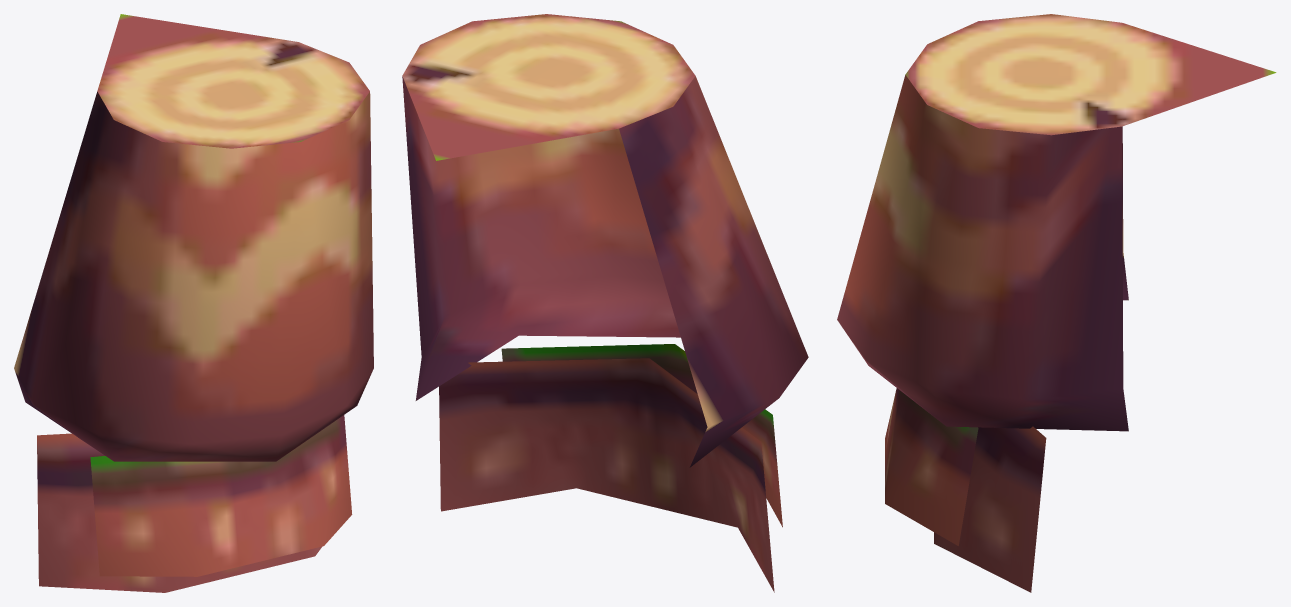
File: fg_treeC_4_b.dae
3 views of the same model, side by side, from view 1: azimuth 30°, elevation 25°; view 2: azimuth 150°, elevation 25°; view 3: azimuth 270°, elevation 25° (orthographic). The views are drawn at different scales.
Parts seen in each view (by area): view 1: fg_treeC_4_b; view 2: fg_treeC_4_b; view 3: fg_treeC_4_b.
Boxes of the visible parts, left/top/right/bottom form: fg_treeC_4_b: left=14, top=14, right=373, bottom=592; fg_treeC_4_b: left=402, top=14, right=808, bottom=592; fg_treeC_4_b: left=837, top=14, right=1276, bottom=592.
Size of the model in its own units: 20.72 by 26.82 by 23.1.
1 material, 1 textured.
